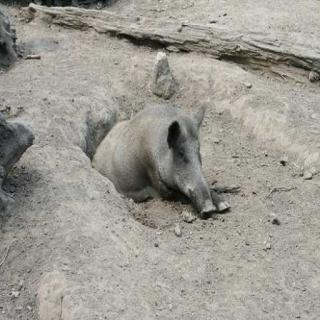Pig: (84, 83, 242, 245)
